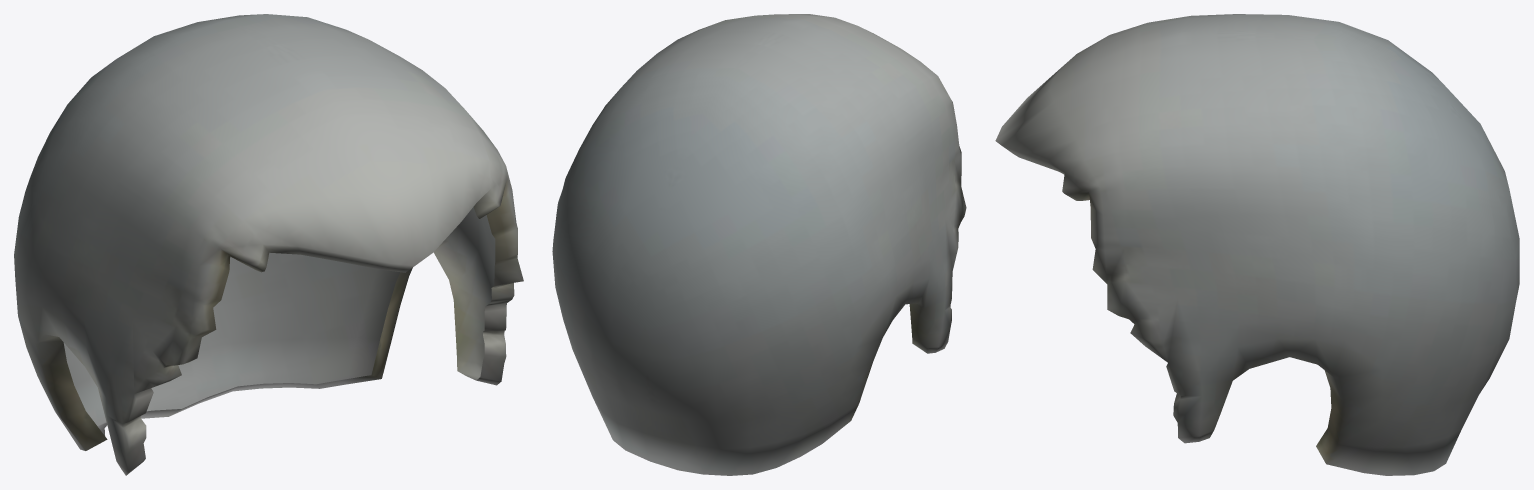
Rendered from hair-buzzedfemale.glb.
The picture shows the model from 3 angles, left to right: view 1: azimuth 30°, elevation 25°; view 2: azimuth 150°, elevation 25°; view 3: azimuth 270°, elevation 25°; orthographic projection. The views are drawn at different scales.
Visible parts, largest first — view 1: Hair_BuzzedFemale; view 2: Hair_BuzzedFemale; view 3: Hair_BuzzedFemale.
Boxes of the visible parts, bbox=[...] form: Hair_BuzzedFemale: bbox=[14, 14, 523, 475]; Hair_BuzzedFemale: bbox=[552, 14, 966, 475]; Hair_BuzzedFemale: bbox=[995, 14, 1519, 475].
Bounding box in the file's own units: 0.1587 × 0.1702 × 0.1976.
1 material, 1 textured.
